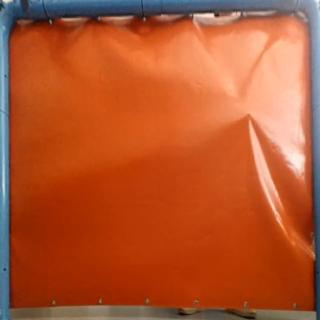Hit-hRxx: (242, 107, 256, 118)
